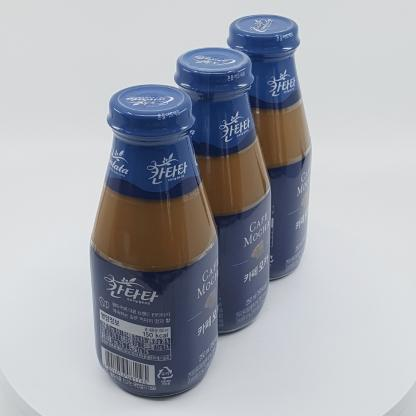------------250ML: (89, 84, 219, 397), (165, 47, 271, 334), (217, 14, 312, 280)
